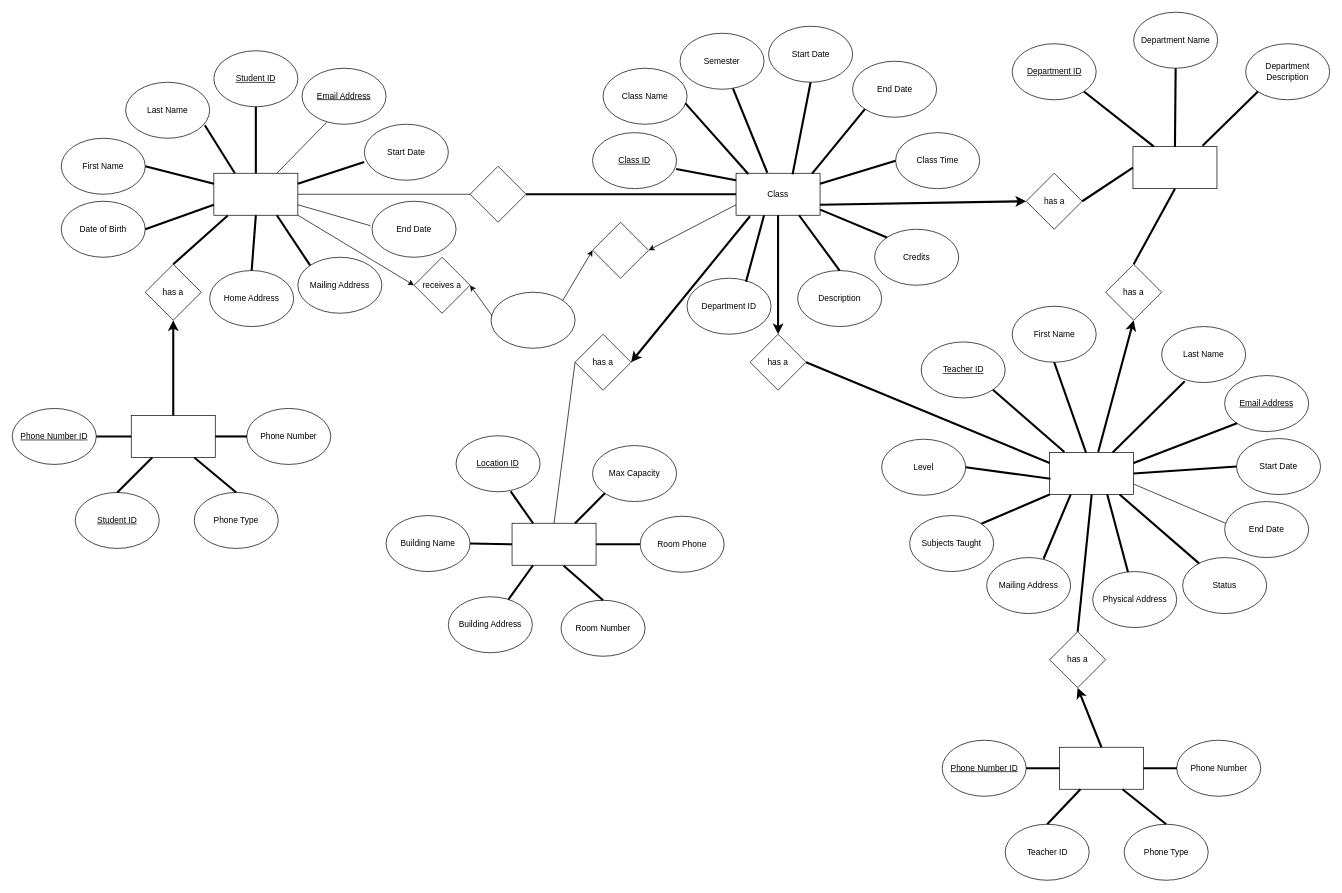
Some shapes in this 1342 by 893 pixel diagram are drawn without their labels. The shapes that lost their labels are listed below. From the top down, each one's box as (x1, y1, x2, y2) in pixels, then its label:
(1132, 146, 1217, 189): Department
(213, 173, 298, 215): Student
(469, 166, 526, 222): takes a
(592, 222, 649, 278): Issues to a Student a
(490, 292, 575, 348): Grade
(131, 415, 215, 457): Student Phone
(1049, 452, 1134, 495): Teacher
(511, 523, 596, 565): Location
(1059, 747, 1143, 789): Teacher Phone
